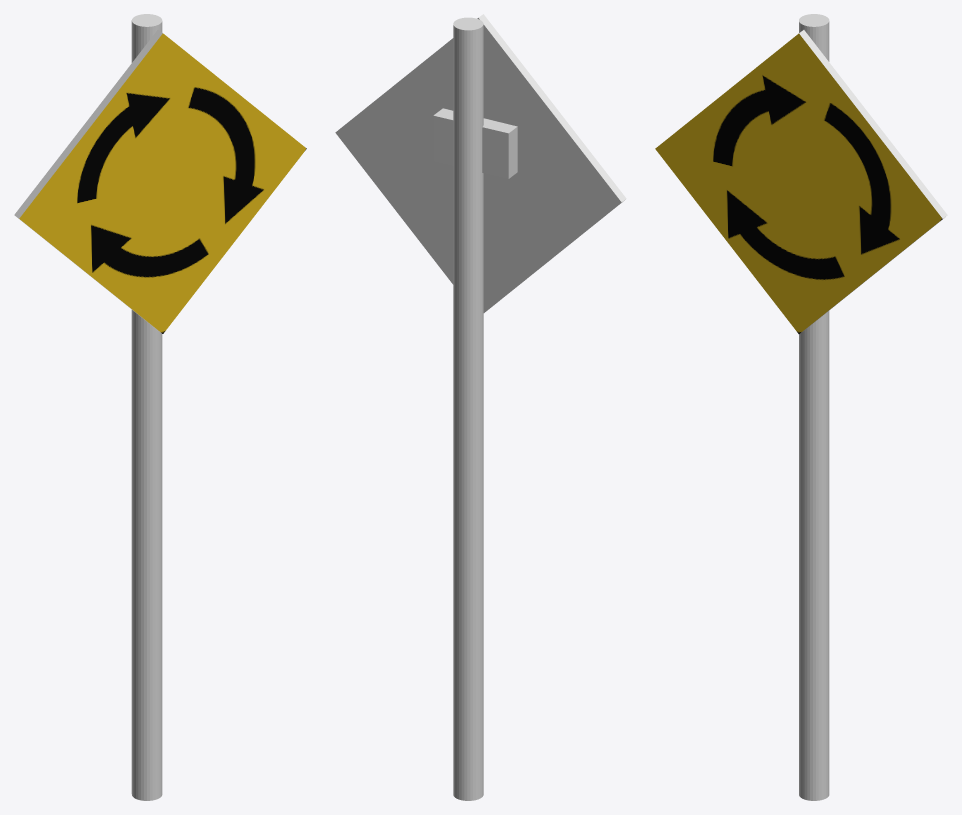
The model's file is PeringBundaran.fbx.
3 renders of one model, left to right at view 1: azimuth 30°, elevation 25°; view 2: azimuth 150°, elevation 25°; view 3: azimuth 330°, elevation 25°, orthographic.
Visible parts, largest first — view 1: Cube.002, Cylinder.002; view 2: Cube.002, Cylinder.002, Cube.001; view 3: Cube.002, Cylinder.002.
Boxes of the visible parts, bbox=[...] form: Cube.002: bbox=[14, 30, 306, 333]; Cylinder.002: bbox=[131, 14, 162, 800]; Cube.002: bbox=[335, 14, 626, 312]; Cylinder.002: bbox=[453, 17, 483, 800]; Cube.001: bbox=[433, 108, 517, 178]; Cube.002: bbox=[655, 30, 947, 333]; Cylinder.002: bbox=[799, 14, 829, 800].
Size of the model in its own units: 283 by 727 by 39.46.
